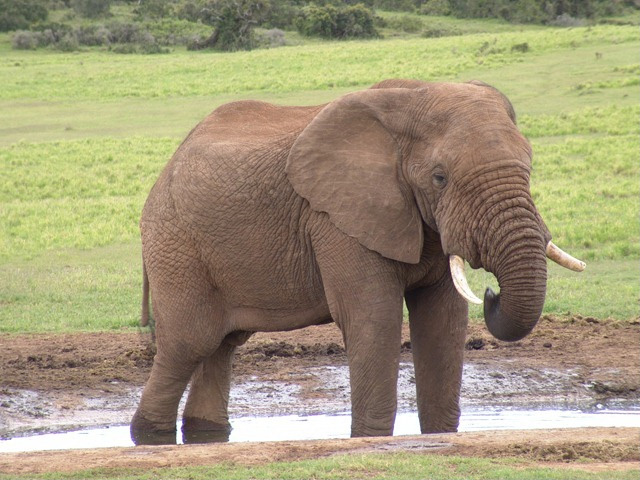elephant: (124, 71, 598, 448)
